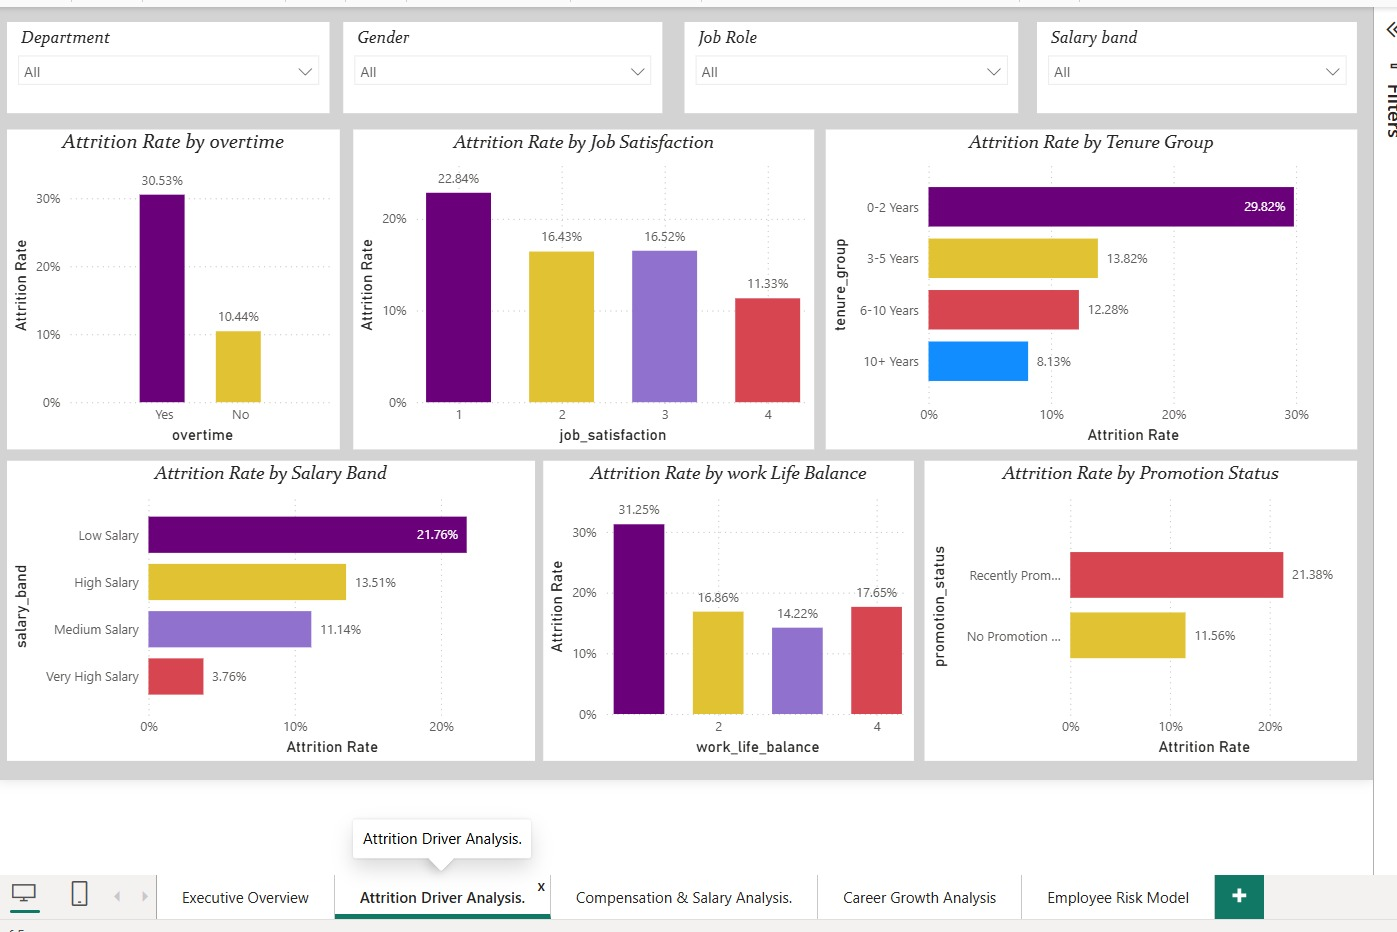

What the dashboard file says about the page in this screenshot:
{"tool":"powerbi","page":{"name":"Attrition Driver Analysis.","canvas":[1280,720],"ordinal":1},"visuals":[{"type":"columnChart","fields":{"Category":["public employees.overtime"],"Y":["public employees.Attrition Rate"]},"box":[9.3,114,309.3,297.7],"z":0},{"type":"clusteredBarChart","title":"Attrition Rate by Salary Band","fields":{"Category":["public employees.salary_band"],"Y":["public employees.Attrition Rate"]},"box":[9.5,422.5,490.9,279.6],"z":1000},{"type":"clusteredBarChart","title":"Attrition Rate by Tenure Group","fields":{"Category":["public employees.tenure_group"],"Y":["public employees.Attrition Rate"]},"box":[770.9,114,494.2,297.7],"z":2000},{"type":"columnChart","title":"Attrition Rate by Job Satisfaction","fields":{"Category":["public employees.job_satisfaction"],"Y":["public employees.Attrition Rate"]},"box":[331.4,114,429.1,297.7],"z":3000},{"type":"clusteredColumnChart","title":"Attrition Rate by work Life Balance","fields":{"Category":["public employees.work_life_balance"],"Y":["public employees.Attrition Rate"]},"box":[507.7,422.5,344.8,279.6],"z":4000},{"type":"clusteredBarChart","title":"Attrition Rate by Promotion Status","fields":{"Category":["public employees.promotion_status"],"Y":["public employees.Attrition Rate"]},"box":[862.9,422.5,402.6,279.6],"z":5000},{"type":"slicer","fields":{"Values":["public employees.department"]},"box":[9.3,14,300,84.9],"z":6000},{"type":"slicer","fields":{"Values":["public employees.gender"]},"box":[322.1,14,296.5,84.9],"z":7000},{"type":"slicer","fields":{"Values":["public employees.job_role"]},"box":[639.5,14,310.5,84.9],"z":8000},{"type":"slicer","fields":{"Values":["public employees.salary_band"]},"box":[967.4,14,297.7,84.9],"z":9000}]}

Visuals, with their boxes on the page's 1280x720 design canvas (x1, y1, x2, y2). These are canvas units, not pixel positions in the 1397x932 screenshot, which may show the page scaled, cropped or inside an application window:
columnChart - public employees.overtime x public employees.Attrition Rate: 9 114 319 412
"Attrition Rate by Salary Band" clusteredBarChart: 10 422 500 702
"Attrition Rate by Tenure Group" clusteredBarChart: 771 114 1265 412
"Attrition Rate by Job Satisfaction" columnChart: 331 114 760 412
"Attrition Rate by work Life Balance" clusteredColumnChart: 508 422 852 702
"Attrition Rate by Promotion Status" clusteredBarChart: 863 422 1266 702
slicer - public employees.department: 9 14 309 99
slicer - public employees.gender: 322 14 619 99
slicer - public employees.job_role: 640 14 950 99
slicer - public employees.salary_band: 967 14 1265 99
